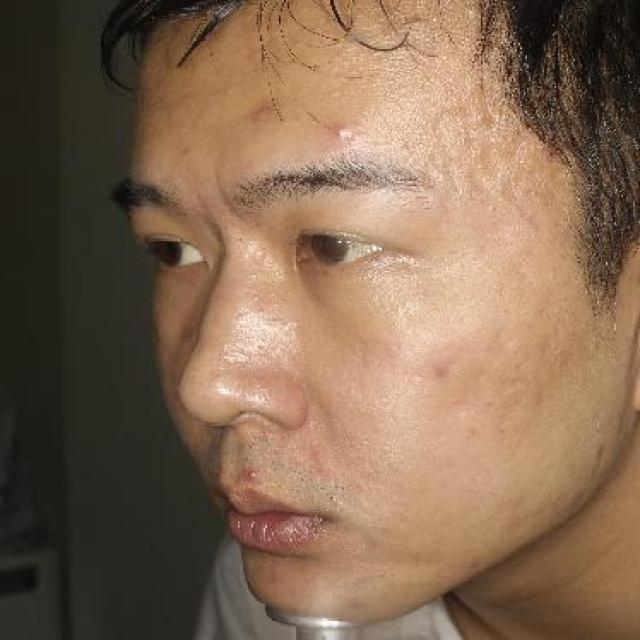blackheads: (334, 546, 344, 557), (252, 302, 267, 309), (252, 292, 264, 300), (255, 309, 267, 317), (248, 270, 259, 278), (272, 302, 284, 309), (238, 314, 246, 318)
dark spot: (246, 100, 282, 126), (424, 362, 460, 384)
papules: (327, 122, 354, 143)
pustules: (241, 463, 262, 482)
